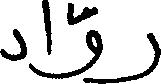X: (54, 0, 102, 83), (121, 28, 160, 83), (0, 24, 26, 65), (41, 0, 52, 83)
